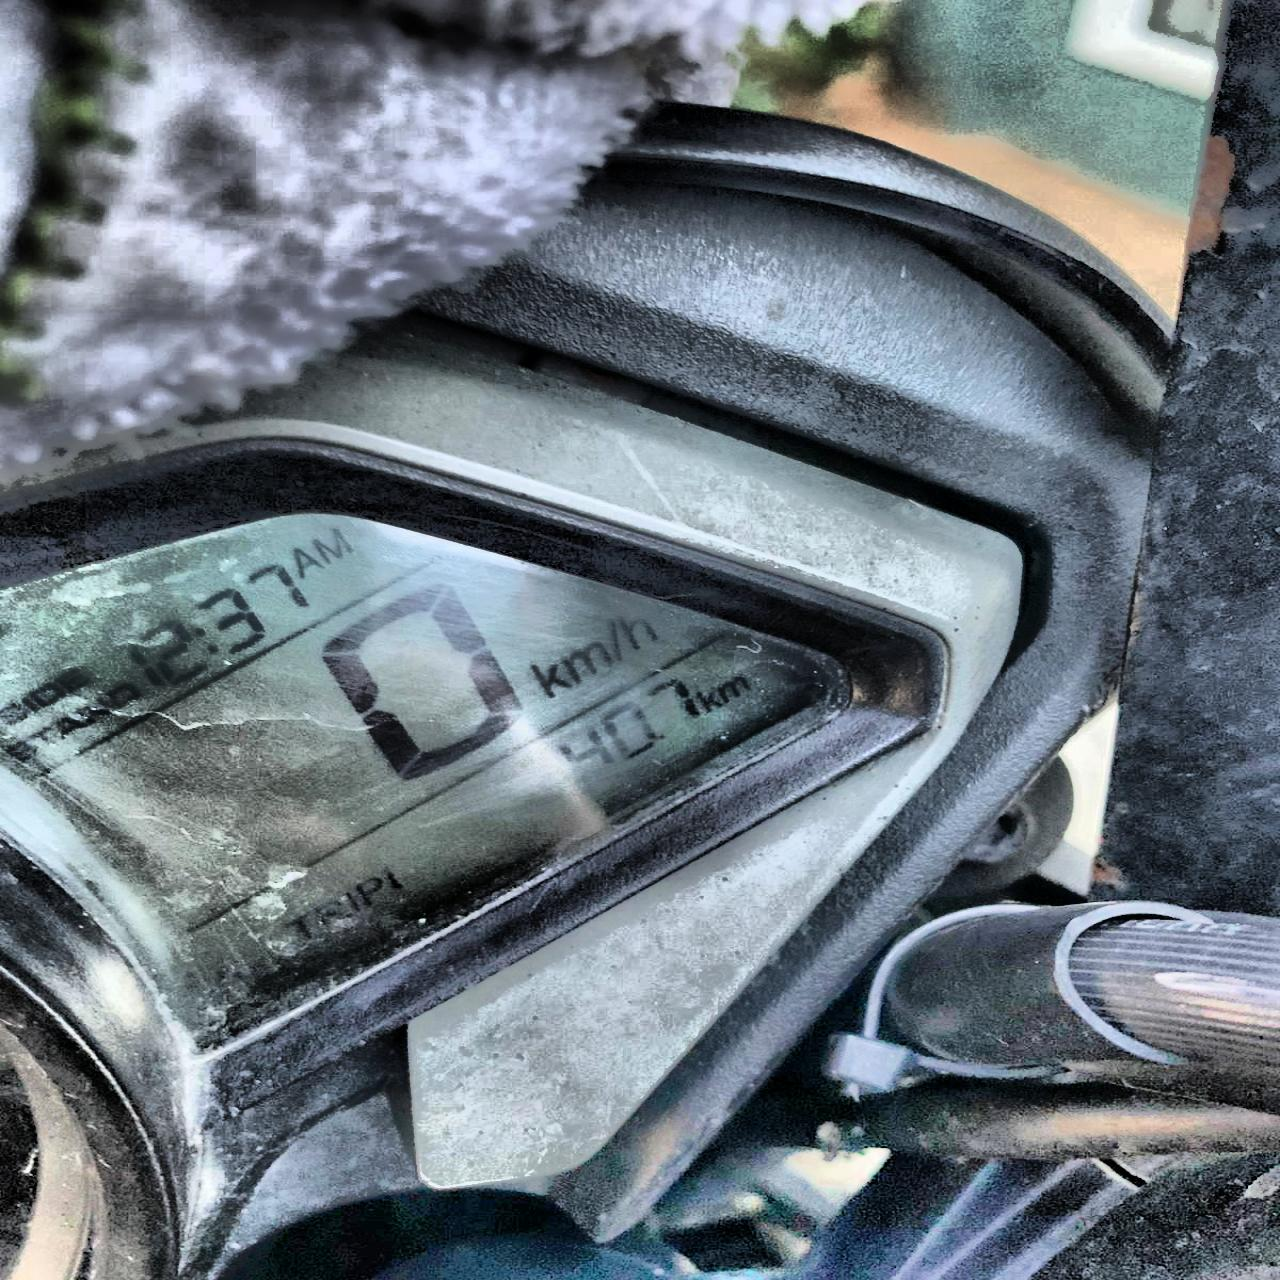-: (657, 730, 668, 744)
0: (318, 582, 524, 781), (601, 701, 658, 758)
1: (127, 641, 165, 688), (382, 867, 408, 894)
2: (137, 615, 206, 683)
3: (198, 586, 266, 653)
4: (556, 730, 615, 772)
7: (246, 562, 310, 610), (643, 678, 699, 724)
X: (561, 647, 614, 681), (310, 530, 356, 564), (528, 662, 572, 696), (618, 613, 658, 647), (278, 908, 315, 942), (290, 546, 325, 580), (314, 898, 351, 928), (353, 876, 385, 908), (606, 616, 627, 662), (716, 676, 753, 702), (30, 681, 66, 706), (76, 699, 112, 722), (191, 626, 218, 655), (52, 668, 86, 690), (5, 740, 38, 761), (696, 689, 723, 714), (58, 715, 88, 737), (28, 726, 58, 747), (108, 685, 140, 704), (3, 702, 25, 726), (18, 693, 39, 715), (343, 890, 362, 914)
odometer: (3, 499, 923, 1050)
